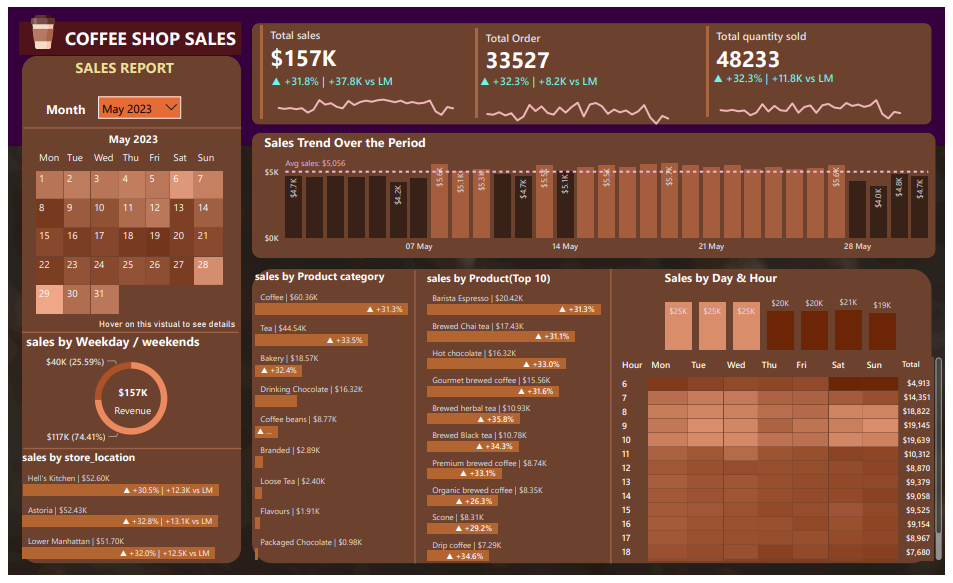

The page's visual inventory and layout, read from the dashboard file:
{"tool":"powerbi","page":{"name":"coffee shop sale","canvas":[1400,850],"ordinal":0},"visuals":[{"type":"shape","box":[364,391.7,1016.8,441.1],"z":0},{"type":"shape","box":[0,0,1400.6,207.7],"z":1000},{"type":"shape","box":[19.8,73.2,328.4,759.6],"z":2000},{"type":"shape","box":[364,23.7,1016.8,152.3],"z":3000},{"type":"textbox","box":[15.8,21.8,332.3,49.5],"z":4000},{"type":"cardVisual","fields":{"Data":["Coffee Shop Sales csv.Total sales"]},"box":[371.9,21.8,298.7,150.3],"z":4000,"group":"g1"},{"type":"cardVisual","fields":{"Data":["Coffee Shop Sales csv.Total quantity sold"]},"box":[1038.5,23.7,301.1,146.1],"z":4000,"group":"g3"},{"type":"cardVisual","fields":{"Data":["Coffee Shop Sales csv.Total Order"]},"box":[694.3,25.7,310.6,144.4],"z":4000,"group":"g2"},{"type":"slicer","fields":{"Values":["Date Table.Month year"]},"box":[128.6,128.6,134.5,41.5],"z":5000},{"type":"group","id":"g1","title":"Group 1","box":[371.9,21.8,306.6,158.3],"z":6000},{"type":"lineChart","fields":{"Category":["Date Table.Date Hierarchy.Date"],"Y":["Coffee Shop Sales csv.Total quantity sold"]},"box":[1049.9,94.6,298.7,81.1],"z":6000,"group":"g3"},{"type":"lineChart","fields":{"Y":["Sum(Coffee Shop Sales csv.SALE)"],"Category":["Date Table.Date Hierarchy.Date"]},"box":[388.6,98.6,290.8,81.1],"z":6000,"group":"g1"},{"type":"lineChart","fields":{"Y":["Coffee Shop Sales csv.Total Order"],"Category":["Date Table.Date Hierarchy.Date"]},"box":[701.5,99.5,300.7,81.1],"z":6000,"group":"g2"},{"type":"group","id":"g2","title":"Group 1","box":[694.3,25.7,310.6,154.9],"z":7000},{"type":"group","id":"g3","title":"Group 1","box":[1038.5,23.7,310.6,152.3],"z":8000},{"type":"pivotTable","fields":{"Rows":["Date Table.Week no"],"Columns":["Date Table.Day name"],"Values":["Min(Date Table.Day no)"]},"box":[17.8,207.7,314.5,263.1],"z":9000},{"type":"card","fields":{"Values":["Min(Date Table.Month year)"]},"box":[134.5,182,104.8,33.6],"z":10000},{"type":"card","fields":{"Values":["Coffee Shop Sales csv.Foot note"]},"box":[110.8,460.9,253.2,25.7],"z":11000},{"type":"shape","box":[19.8,474.8,324.4,23.7],"z":12000},{"type":"shape","box":[21.8,174.1,326.4,13.8],"z":13000},{"type":"donutChart","title":"sales by Weekday / weekends","fields":{"Category":["Date Table.Weekday / weekends"],"Y":["Coffee Shop Sales csv.Total sales"]},"box":[21.8,486.6,322.4,174.1],"z":14000},{"type":"card","fields":{"Values":["Coffee Shop Sales csv.Total sales"]},"box":[148.4,557.8,75.2,61.3],"z":15000},{"type":"clusteredBarChart","title":"sales by store_location","fields":{"Category":["Coffee Shop Sales csv.store_location"],"Y":["Coffee Shop Sales csv.Place holder","Coffee Shop Sales csv.Total sales"]},"box":[15.8,662.7,332.3,170.1],"z":16000},{"type":"shape","box":[595.4,393.7,25.7,439.2],"z":17000},{"type":"shape","box":[364,187.9,1022.7,187.9],"z":18000},{"type":"columnChart","title":"Sales Trend Over the Period","fields":{"Category":["Coffee Shop Sales csv.transaction_date"],"Y":["Coffee Shop Sales csv.Total sales"]},"box":[377.8,189.9,1010.9,185.9],"z":19000},{"type":"clusteredBarChart","title":"sales by Product category","fields":{"Y":["Coffee Shop Sales csv.Place holder","Coffee Shop Sales csv.Total sales"],"Category":["Coffee Shop Sales csv.product_category"]},"box":[364,391.7,271,441.1],"z":20000},{"type":"shape","box":[21.8,650.8,326.4,19.8],"z":21000},{"type":"clusteredBarChart","title":"sales by Product(Top 10)","fields":{"Y":["Coffee Shop Sales csv.Place holder","Coffee Shop Sales csv.Total sales"],"Category":["Coffee Shop Sales csv.product_type"]},"box":[621.1,393.7,304.6,441.1],"z":22000},{"type":"shape","box":[894.1,391.7,13.8,441.1],"z":23000},{"type":"pivotTable","fields":{"Columns":["Date Table.Day name"],"Rows":["Coffee Shop Sales csv.Hour"],"Values":["Coffee Shop Sales csv.Total sales"]},"box":[908,520.3,492.6,312.6],"z":24000},{"type":"columnChart","title":"Sales by Day & Hour","fields":{"Category":["Date Table.Day name"],"Y":["Coffee Shop Sales csv.Total sales"]},"box":[977.2,391.7,356.1,128.6],"z":25000},{"type":"textbox","box":[51.4,134.5,77.1,41.5],"z":26000},{"type":"textbox","box":[95,71.2,168.1,53.4],"z":27000},{"type":"image","box":[21.8,2,59.3,71.2],"z":28000}]}

Visuals, with their boxes in screenshot pixels (x1, y1, x2, y2), scaled from the page's 1400x850 canvas onto the 953x583 screenshot:
shape: Rect(248, 269, 940, 571)
shape: Rect(0, 0, 952, 142)
shape: Rect(13, 50, 237, 571)
shape: Rect(248, 16, 940, 121)
textbox: Rect(11, 15, 237, 49)
cardVisual - Coffee Shop Sales csv.Total sales: Rect(253, 15, 456, 118)
cardVisual - Coffee Shop Sales csv.Total quantity sold: Rect(707, 16, 912, 116)
cardVisual - Coffee Shop Sales csv.Total Order: Rect(473, 18, 684, 117)
slicer - Date Table.Month year: Rect(88, 88, 179, 117)
"Group 1" group: Rect(253, 15, 462, 124)
lineChart - Date Table.Date Hierarchy.Date x Coffee Shop Sales csv.Total quantity sold: Rect(715, 65, 918, 121)
lineChart - Sum(Coffee Shop Sales csv.SALE) x Date Table.Date Hierarchy.Date: Rect(265, 68, 462, 123)
lineChart - Coffee Shop Sales csv.Total Order x Date Table.Date Hierarchy.Date: Rect(478, 68, 682, 124)
"Group 1" group: Rect(473, 18, 684, 124)
"Group 1" group: Rect(707, 16, 918, 121)
pivotTable - Date Table.Week no x Date Table.Day name: Rect(12, 142, 226, 323)
card - Min(Date Table.Month year): Rect(92, 125, 163, 148)
card - Coffee Shop Sales csv.Foot note: Rect(75, 316, 248, 334)
shape: Rect(13, 326, 234, 342)
shape: Rect(15, 119, 237, 129)
"sales by Weekday / weekends" donutChart: Rect(15, 334, 234, 453)
card - Coffee Shop Sales csv.Total sales: Rect(101, 383, 152, 425)
"sales by store_location" clusteredBarChart: Rect(11, 455, 237, 571)
shape: Rect(405, 270, 423, 571)
shape: Rect(248, 129, 944, 258)
"Sales Trend Over the Period" columnChart: Rect(257, 130, 945, 258)
"sales by Product category" clusteredBarChart: Rect(248, 269, 432, 571)
shape: Rect(15, 446, 237, 460)
"sales by Product(Top 10)" clusteredBarChart: Rect(423, 270, 630, 573)
shape: Rect(609, 269, 618, 571)
pivotTable - Date Table.Day name x Coffee Shop Sales csv.Hour: Rect(618, 357, 952, 571)
"Sales by Day & Hour" columnChart: Rect(665, 269, 908, 357)
textbox: Rect(35, 92, 87, 121)
textbox: Rect(65, 49, 179, 85)
image: Rect(15, 1, 55, 50)
